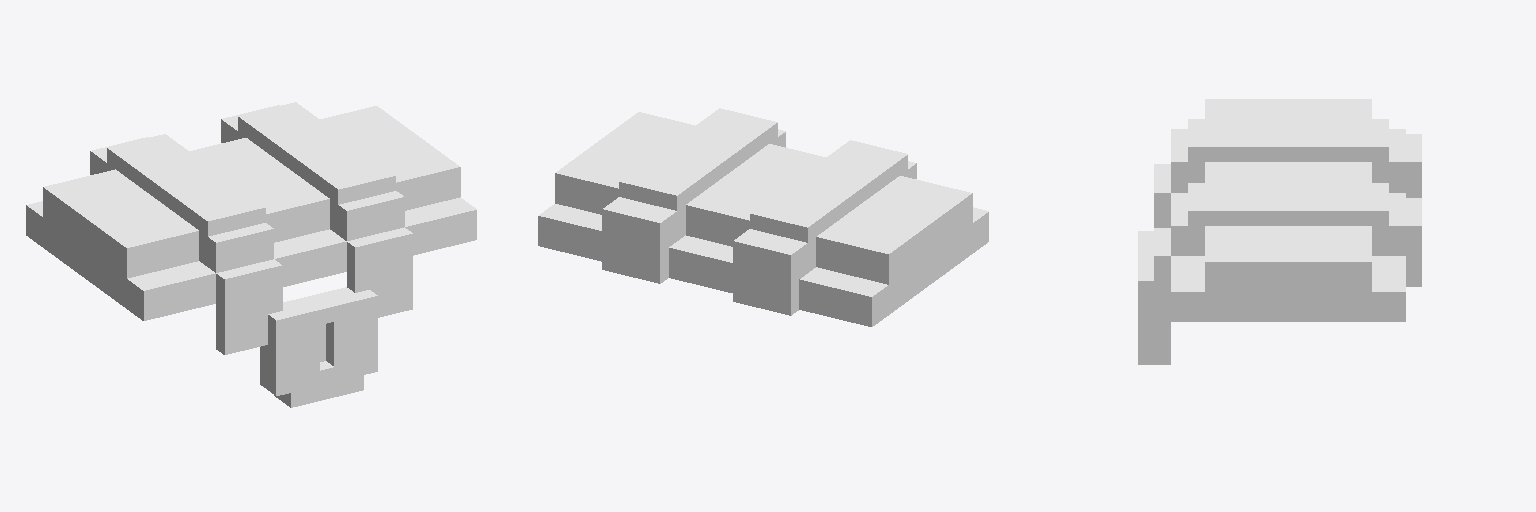
Rendered from Diamond1.obj.
The picture shows the model from 3 angles: view 1: azimuth 30°, elevation 25°; view 2: azimuth 150°, elevation 25°; view 3: azimuth 270°, elevation 25°; orthographic projection.
Visible parts, largest first — view 1: object 1; view 2: object 1; view 3: object 1.
Boxes of the visible parts, <box> form: object 1: <box>26,102,476,407</box>; object 1: <box>538,108,988,326</box>; object 1: <box>1138,99,1421,364</box>.
Size of the model in its own units: 2.3 by 1.2 by 1.7.